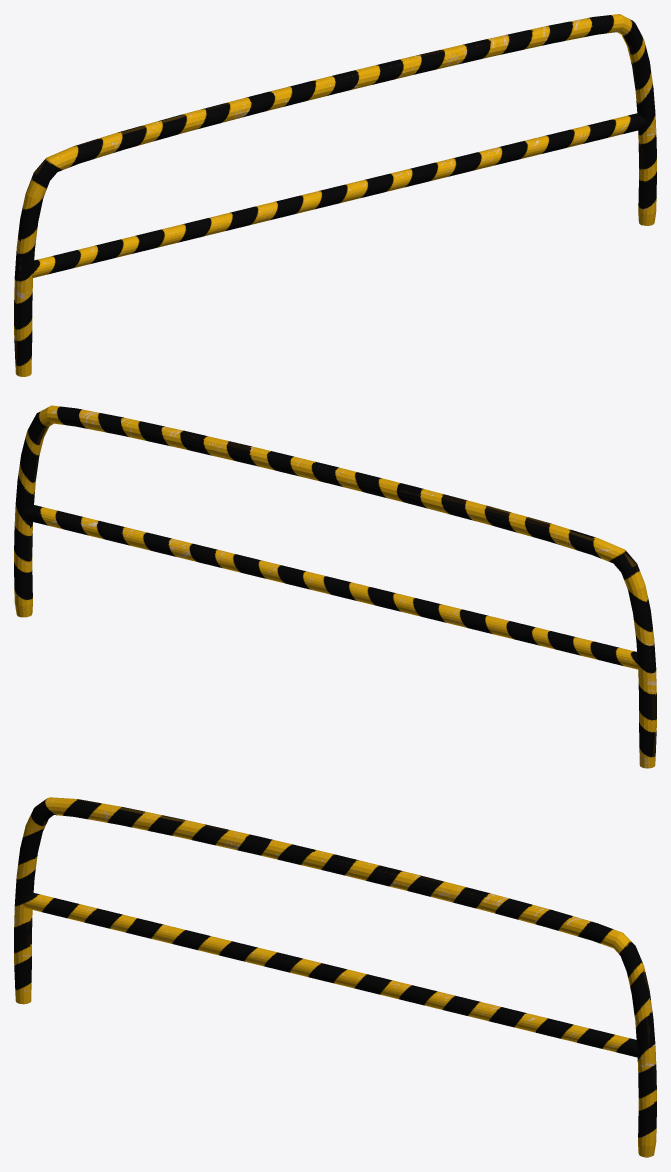
Rendered from GuardRailThick.fbx.
3 renders of one model, top to bottom at view 1: azimuth 30°, elevation 25°; view 2: azimuth 150°, elevation 25°; view 3: azimuth 330°, elevation 25°, orthographic.
Parts seen in each view (by area): view 1: GuardrailThick:Guardrail; view 2: GuardrailThick:Guardrail; view 3: GuardrailThick:Guardrail.
Part boxes in pixels (<box>): GuardrailThick:Guardrail: <box>14,14,656,376</box>; GuardrailThick:Guardrail: <box>14,405,656,768</box>; GuardrailThick:Guardrail: <box>14,797,656,1157</box>.
Size of the model in its own units: 172 by 57.89 by 4.27.
Materials: 1 (1 with a texture image).
